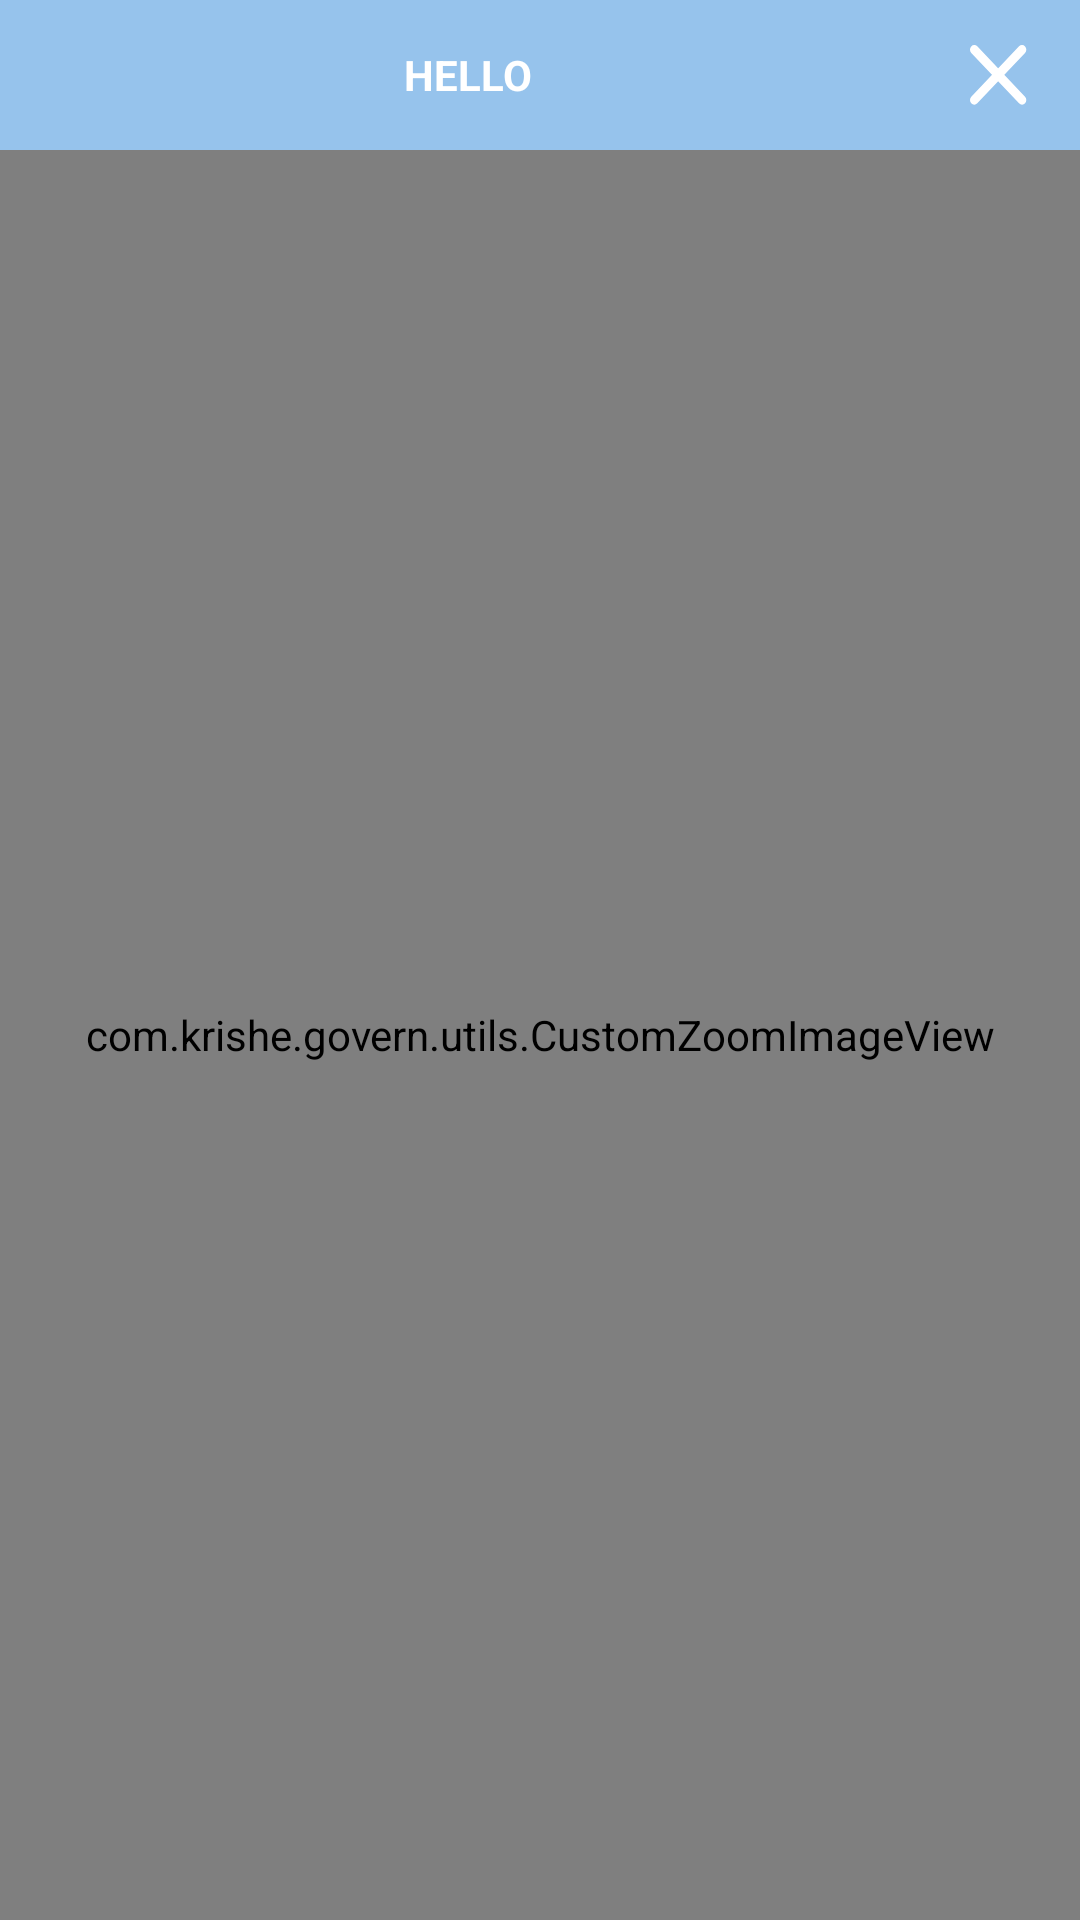

Screen size 1080×1920. Icon name, then its box in pixels as bbox=(x1, y1, x2, y2):
close: bbox=(970, 45, 1027, 105)
